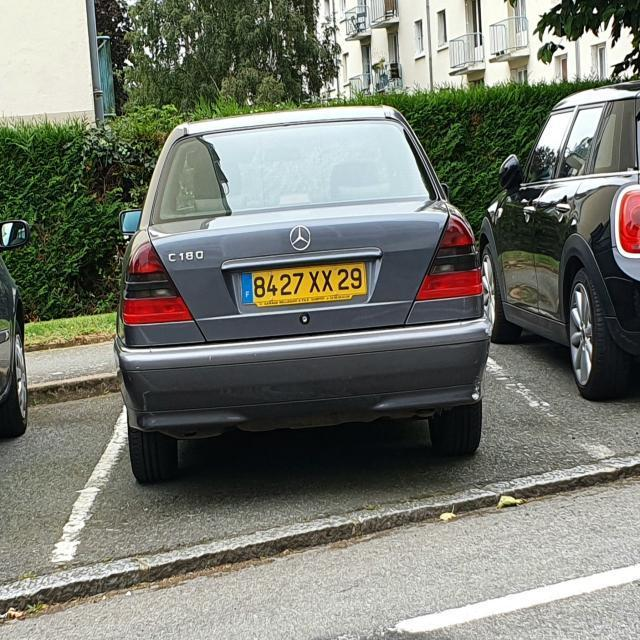EU: (238, 256, 374, 306)
France: (236, 269, 257, 306)
